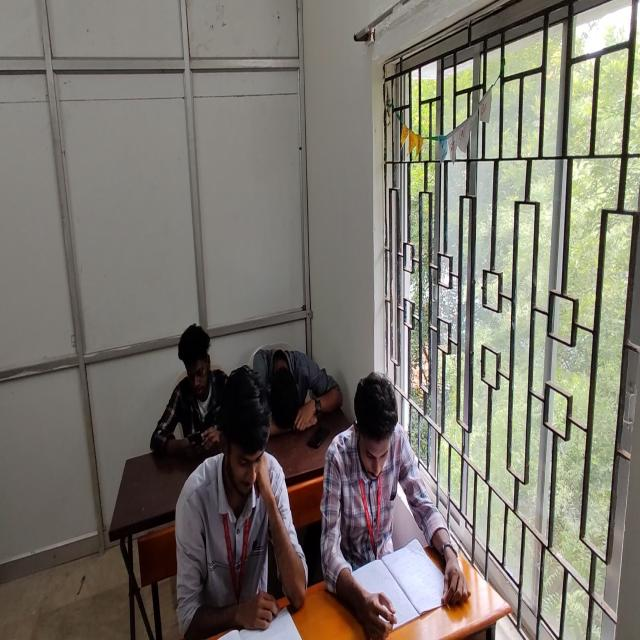reading: (173, 360, 308, 639), (328, 372, 454, 637)
sleeping: (254, 347, 340, 436)
using_mobile: (151, 322, 230, 458)
